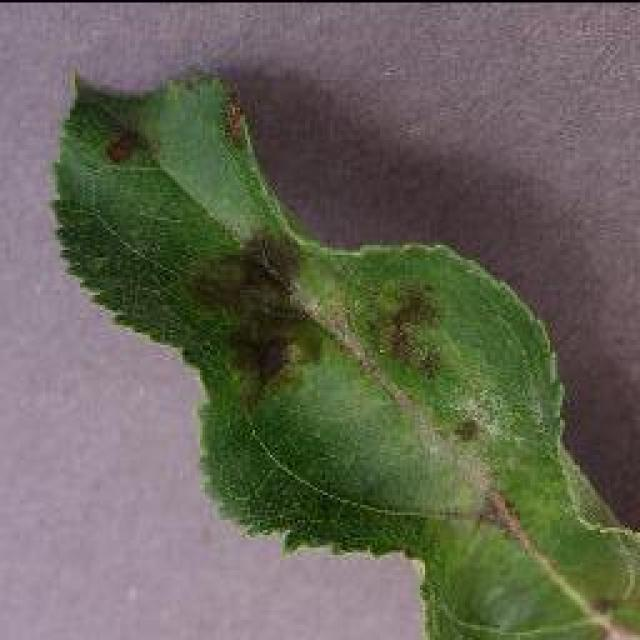apple scab disease: (48, 65, 638, 637)
